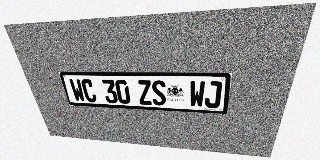0: (114, 80, 131, 104)
3: (101, 79, 118, 103)
C: (80, 79, 97, 102)
J: (204, 81, 222, 108)
S: (151, 80, 166, 106)
W: (189, 81, 205, 107), (68, 79, 86, 102)
Z: (137, 80, 153, 105)
